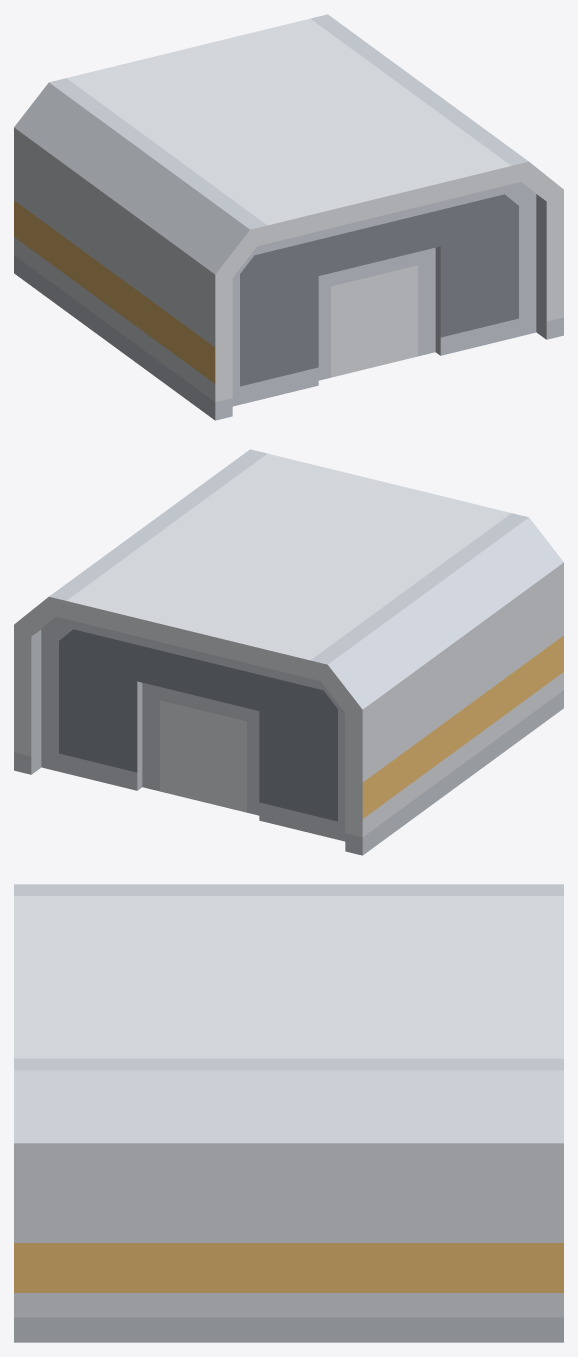
The picture shows the model from 3 angles, top to bottom: view 1: azimuth 30°, elevation 25°; view 2: azimuth 150°, elevation 25°; view 3: azimuth 270°, elevation 25°; orthographic projection. The views are drawn at different scales.
Parts seen in each view (by area): view 1: hangar_smallA, gate; view 2: hangar_smallA, gate; view 3: hangar_smallA.
Boxes of the visible parts, x1=… form: hangar_smallA: x1=14, y1=14, x2=563, y2=420; gate: x1=232, y1=182, x2=536, y2=406; hangar_smallA: x1=14, y1=449, x2=563, y2=855; gate: x1=41, y1=617, x2=345, y2=841; hangar_smallA: x1=14, y1=884, x2=563, y2=1342.
Bounding box in the file's own units: 2 × 1 × 2.
